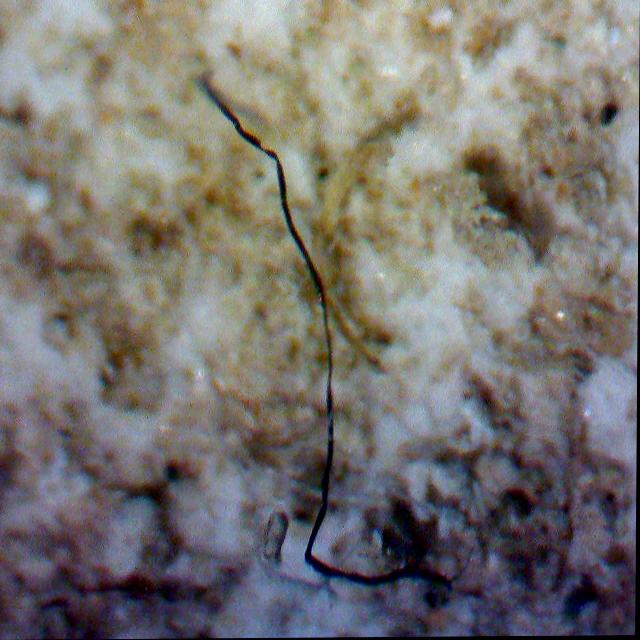microplastic: (122, 62, 457, 638)
